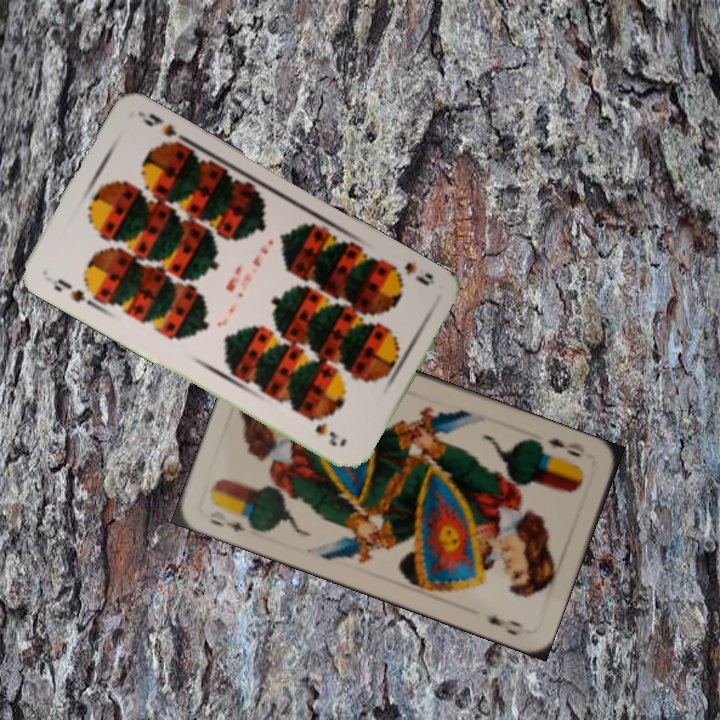EO: (206, 510, 257, 535), (543, 434, 584, 460)
S9: (385, 258, 437, 289), (48, 274, 88, 305)
